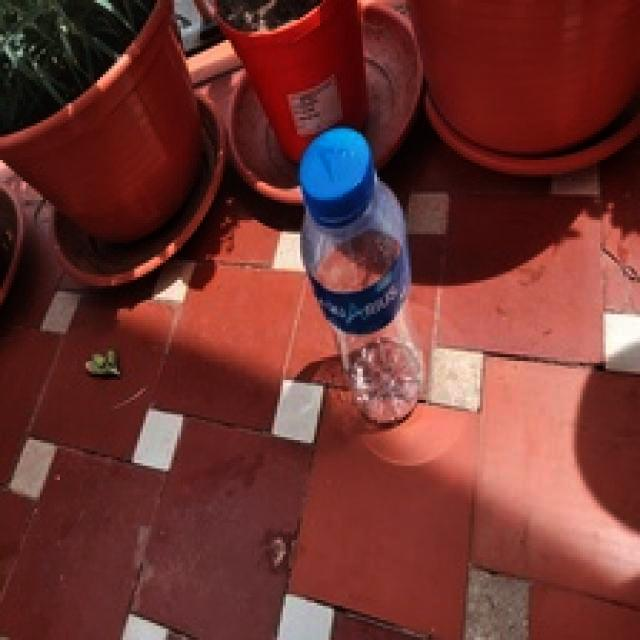bottle: (295, 129, 423, 442)
